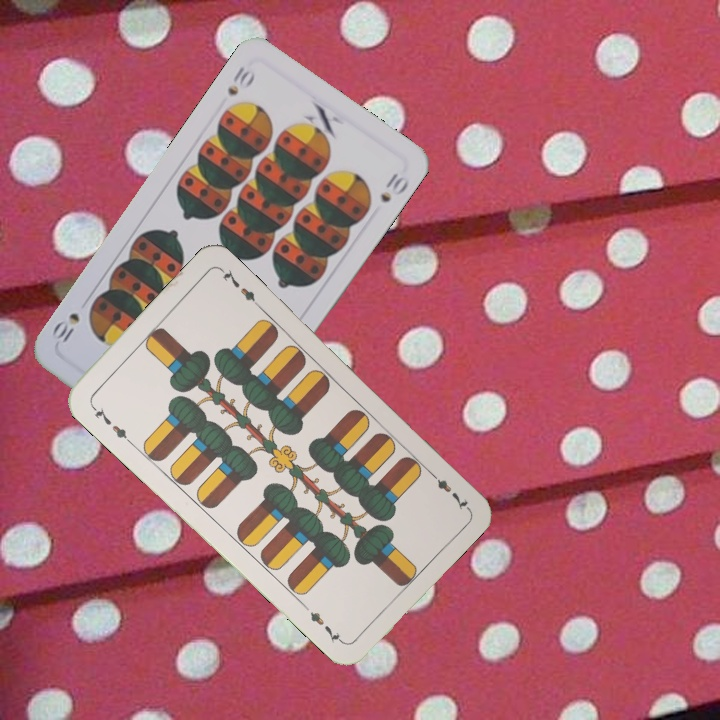E7: (424, 466, 471, 513), (87, 401, 134, 446)
S10: (223, 61, 258, 98)
